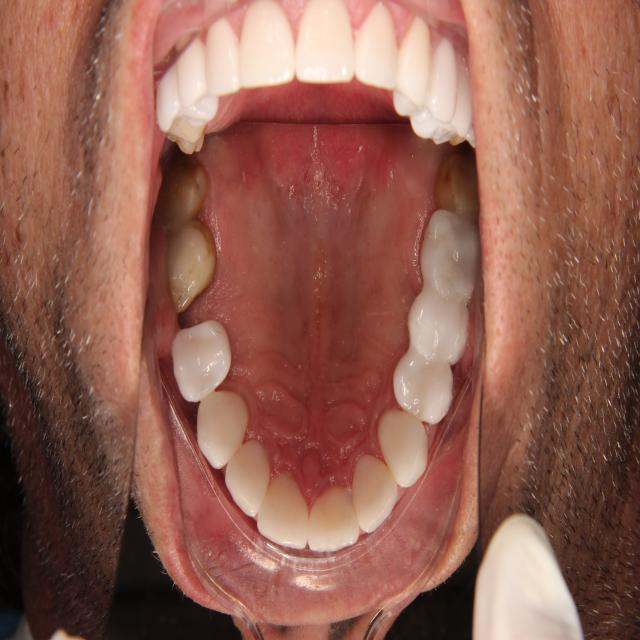tooth: (90, 189, 181, 314), (425, 166, 503, 305), (74, 126, 155, 258), (371, 423, 445, 533), (436, 92, 512, 198), (94, 295, 182, 385), (144, 402, 217, 508), (219, 488, 287, 596), (116, 346, 193, 440), (390, 369, 467, 460), (285, 501, 348, 596), (72, 65, 140, 147), (339, 477, 398, 565), (189, 456, 239, 539)
